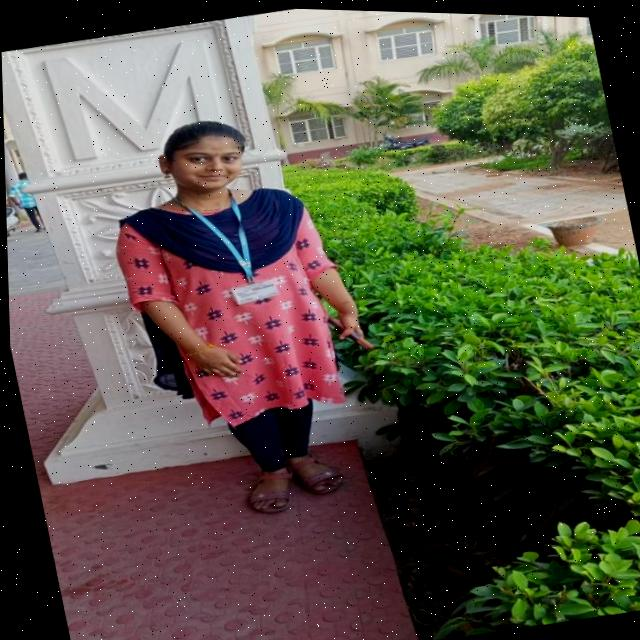id_card: (169, 175, 295, 321)
